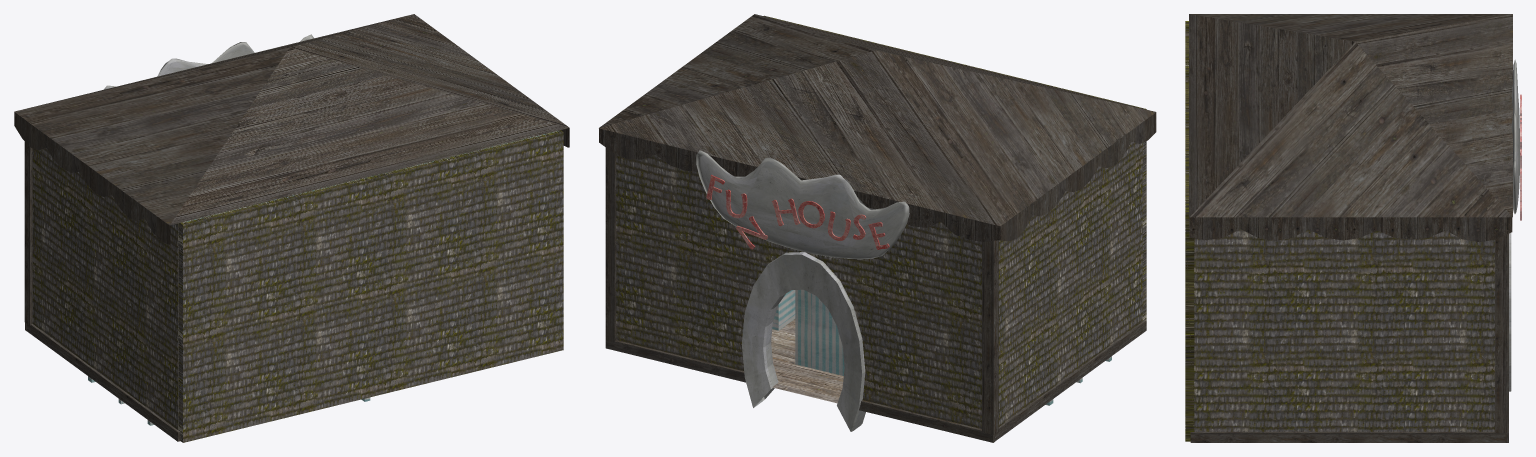
Rendered from funhouse_3.fbx.
The picture shows the model from 3 angles, left to right: view 1: azimuth 30°, elevation 25°; view 2: azimuth 150°, elevation 25°; view 3: azimuth 270°, elevation 25°; orthographic projection. The views are drawn at different scales.
Visible parts, largest first — view 1: polySurface7, pPyramid1, polySurface4, polySurface5, funhouse_sign:pSphere1; view 2: polySurface7, pPyramid1, funhouse_sign:pSphere1, polySurface4, pPipe1, polySurface5, polySurface2, polySurface3, polySurface6; view 3: pPyramid1, polySurface7, polySurface5, polySurface4, funhouse_sign:pSphere1, pPipe1.
Boxes of the visible parts, box(x1,y1,x2,y2) form: polySurface7: box(32, 130, 563, 442); pPyramid1: box(14, 14, 569, 225); polySurface4: box(24, 141, 180, 441); polySurface5: box(14, 112, 569, 244); funhouse_sign:pSphere1: box(103, 34, 313, 89); polySurface7: box(616, 15, 1146, 428); pPyramid1: box(599, 14, 1155, 226); funhouse_sign:pSphere1: box(696, 150, 909, 259); polySurface4: box(605, 147, 1146, 442); pPipe1: box(741, 252, 865, 431); polySurface5: box(599, 112, 1156, 241); polySurface2: box(772, 289, 1111, 405); polySurface3: box(771, 319, 843, 403); polySurface6: box(706, 175, 889, 249); pPyramid1: box(1189, 14, 1512, 217); polySurface7: box(1185, 21, 1494, 441); polySurface5: box(1189, 217, 1512, 242); polySurface4: box(1190, 233, 1508, 442); funhouse_sign:pSphere1: box(1511, 59, 1520, 213); pPipe1: box(1509, 233, 1511, 391).
Bounding box in the file's own units: 1049 × 785 × 733.
7 materials, 6 textured.
